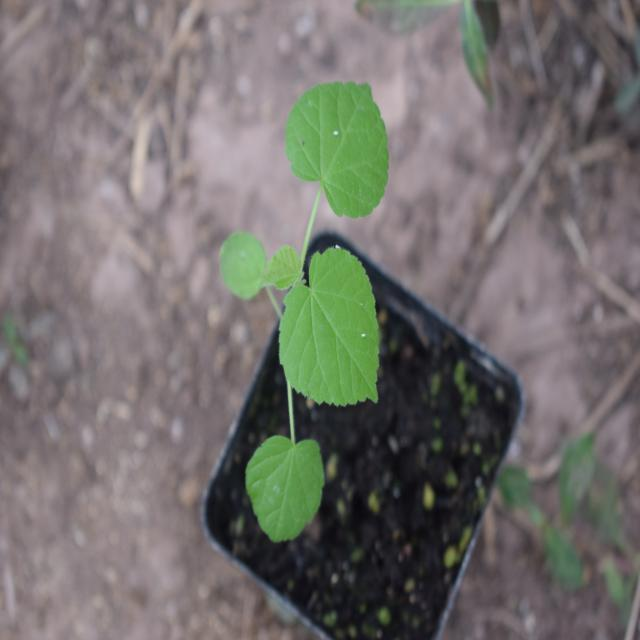abutilon theophrasti: (202, 40, 410, 570)
